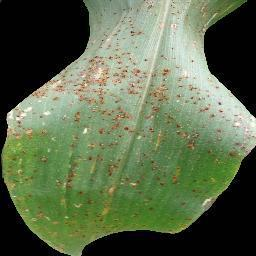Corn_Common_Rust: (0, 129, 207, 256), (3, 52, 208, 128), (80, 0, 248, 50), (207, 80, 256, 219)
